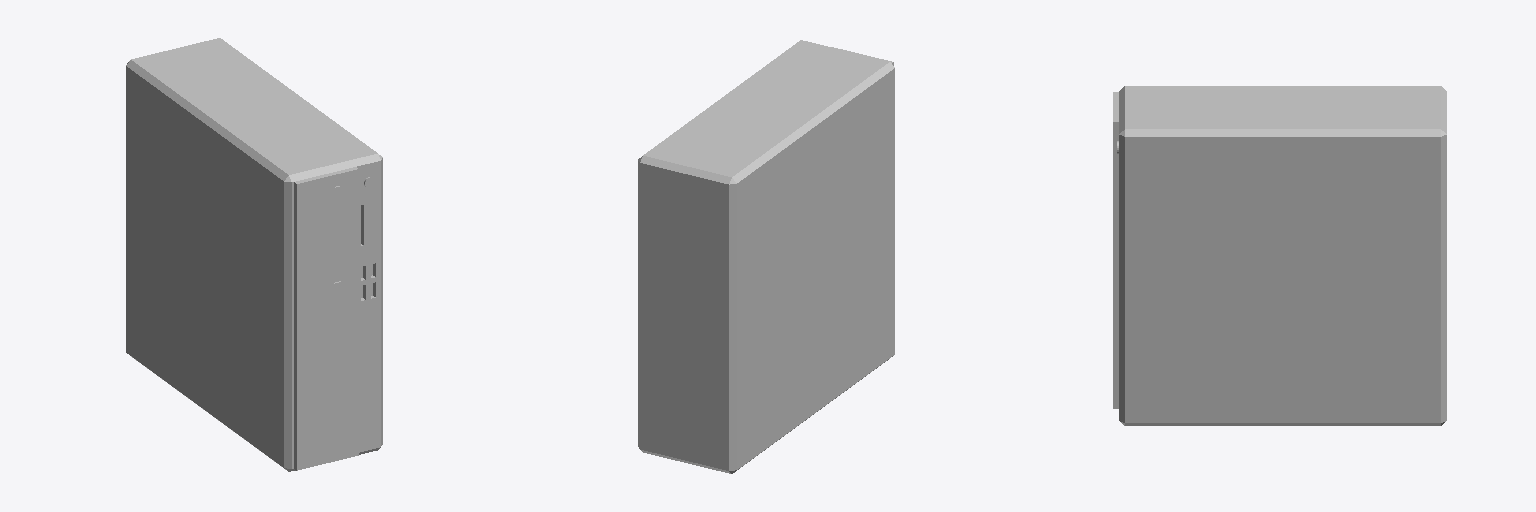
Rendered from Low_Poly_PC_Tower.obj.
3 renders of one model, left to right at view 1: azimuth 30°, elevation 25°; view 2: azimuth 150°, elevation 25°; view 3: azimuth 270°, elevation 25°, orthographic.
Parts seen in each view (by area): view 1: pCube1; view 2: pCube1; view 3: pCube1.
Boxes of the visible parts, <box> form: pCube1: <box>126,38,382,471</box>; pCube1: <box>638,40,894,473</box>; pCube1: <box>1113,86,1446,425</box>.
Bounding box in the file's own units: 2.68 × 7.67 × 7.81.